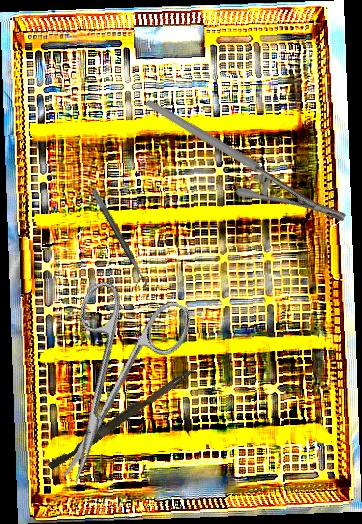Fixation Ring: (82, 188, 150, 292)
Iris Scissors: (16, 269, 197, 501)
Needle Holder: (144, 49, 350, 271)
Pusher: (47, 357, 202, 475)
